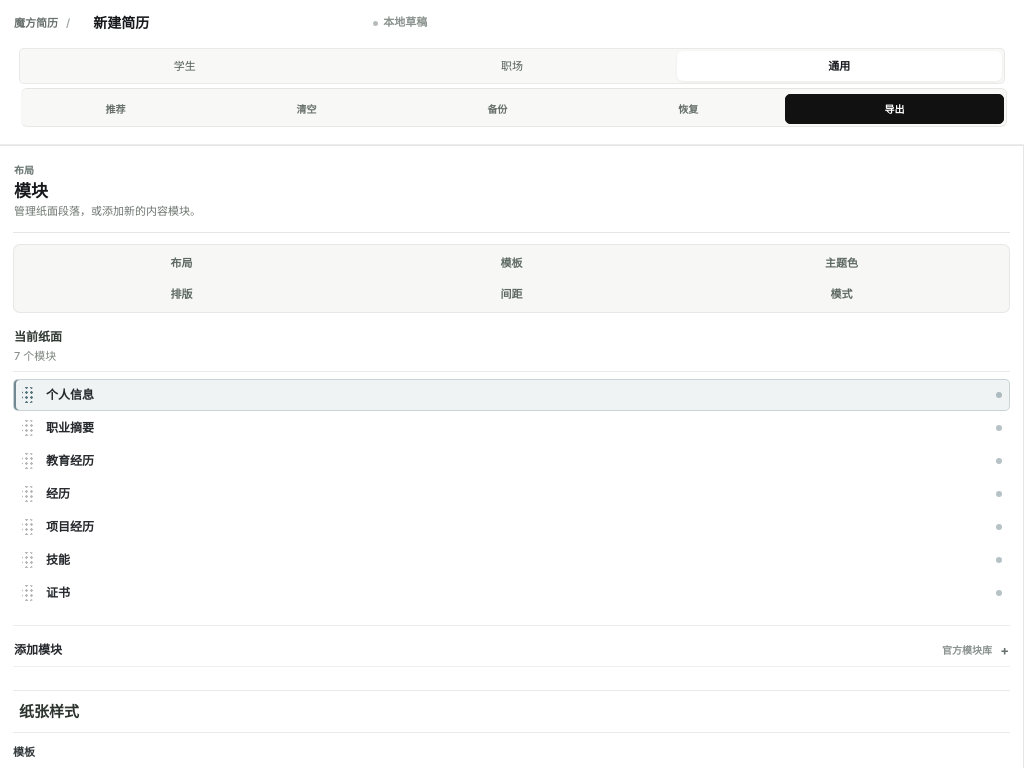
Test: App › exports versioned resume data as json
Click the button with aria-label "导出 JSON" at [497, 109], box [403,94,592,124]
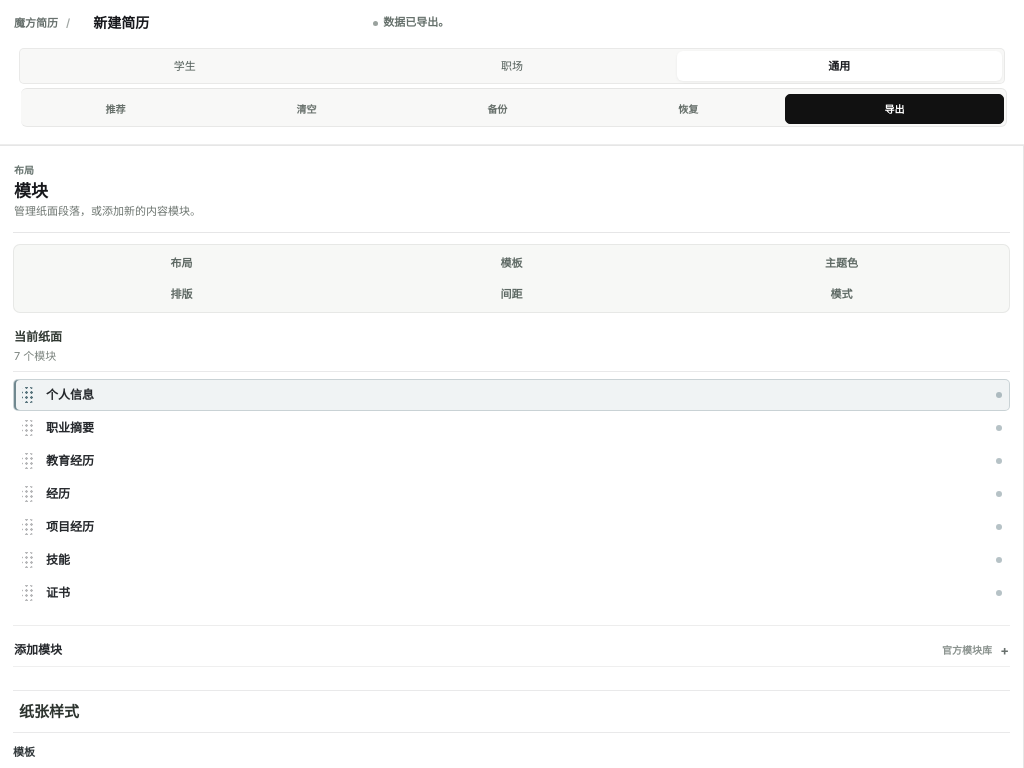
Now the message with class "topbar__status" reads "数据已导出。", box [383,16,449,30]
